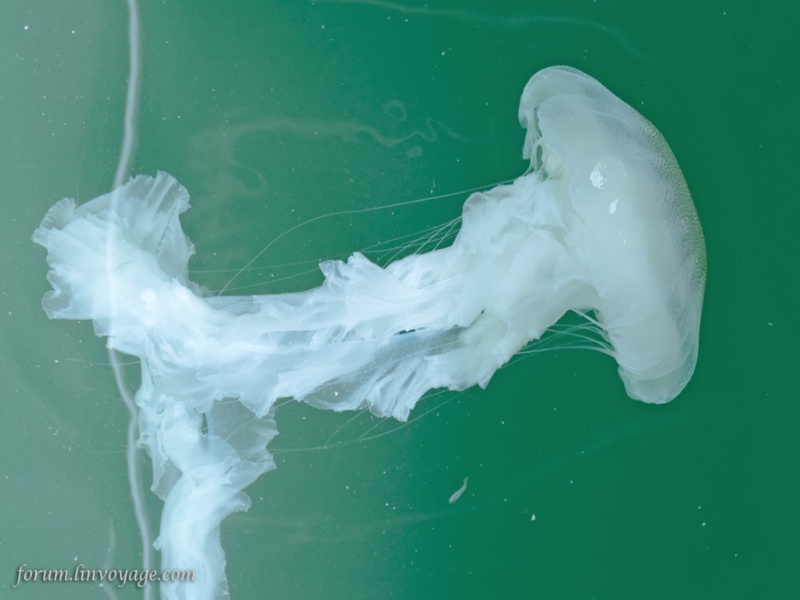Jellyfish: (48, 75, 683, 536)
